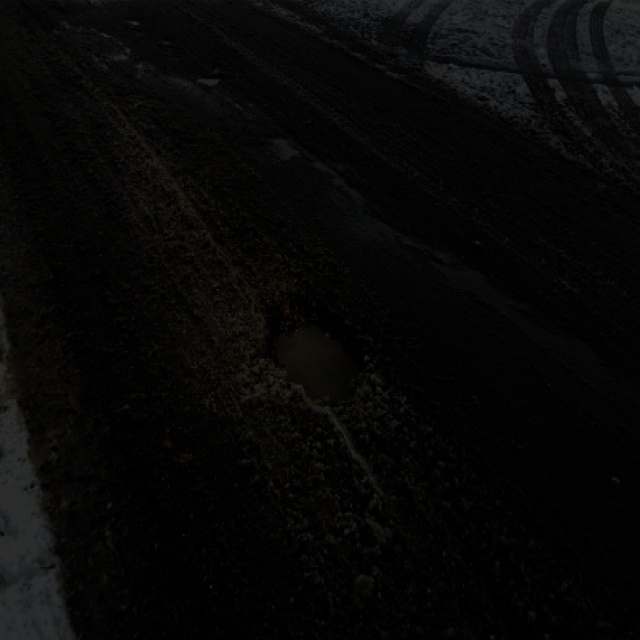Pothole: (255, 284, 371, 402)
